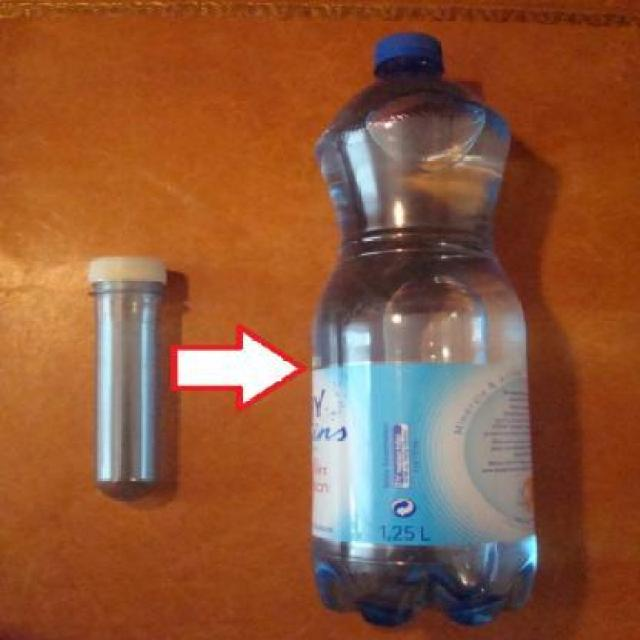bottle: (290, 12, 564, 638)
